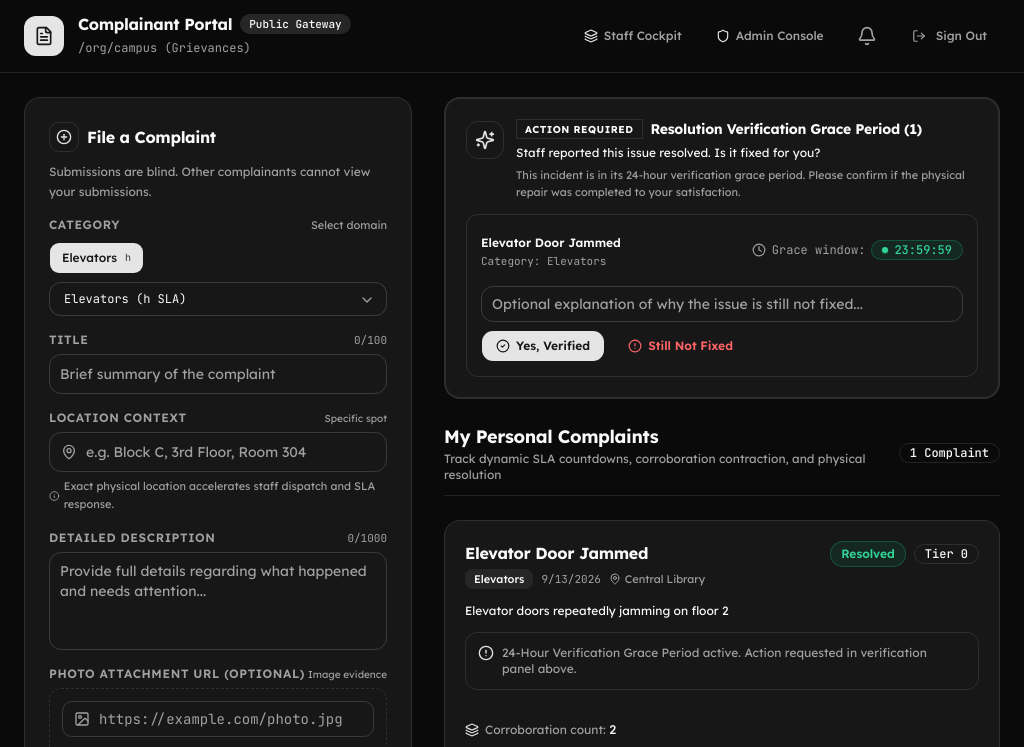
Test: Frontend Client App › allows complainant to view resolution verification prompt and contest resolution to reopen incident with penalty
Expected: the text "Staff reported this issue resolved. Is it fixed for you?" is shown, left=516, top=145, right=820, bottom=160
Expected: the button "Yes, Verified" is shown, left=481, top=330, right=605, bottom=362
Click the button "Still Not Fixed" at (681, 346), box left=613, top=330, right=748, bottom=362
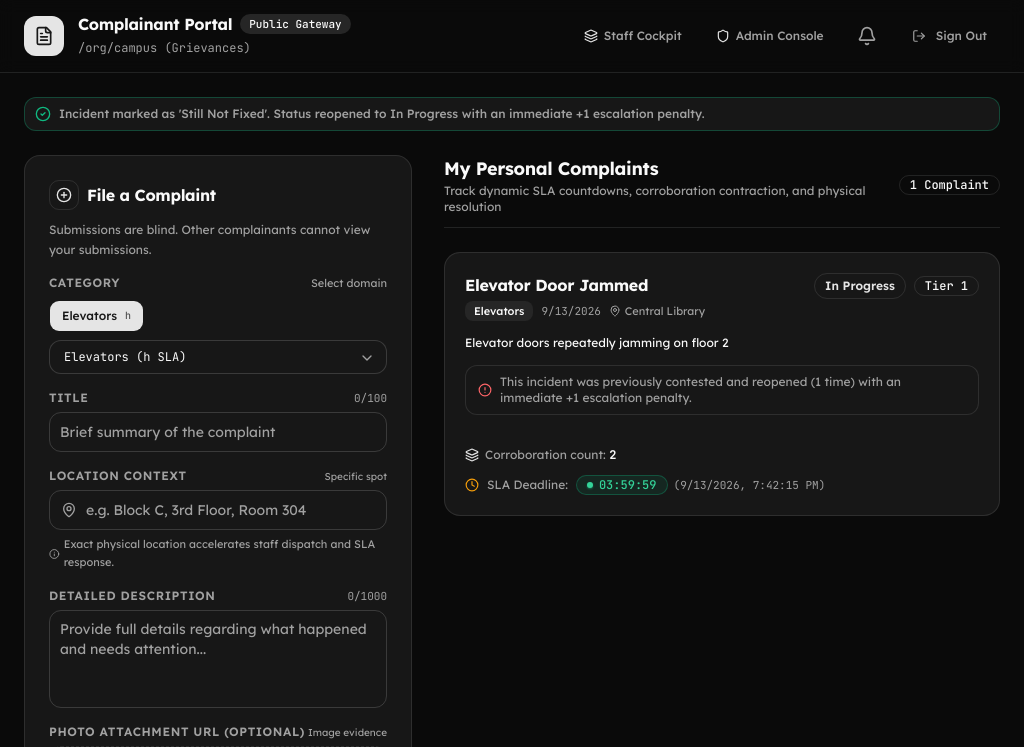
Expected: the text "Incident marked as 'Still Not Fixed'" is shown, left=59, top=106, right=704, bottom=121
